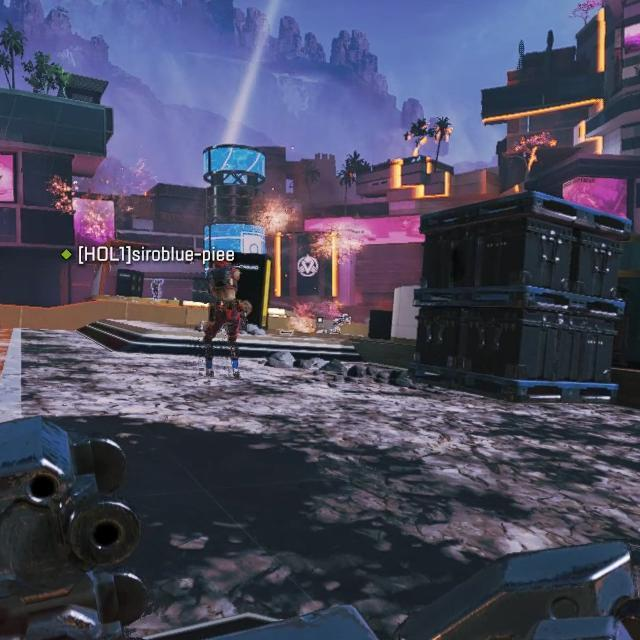avatar: (199, 259, 243, 380)
